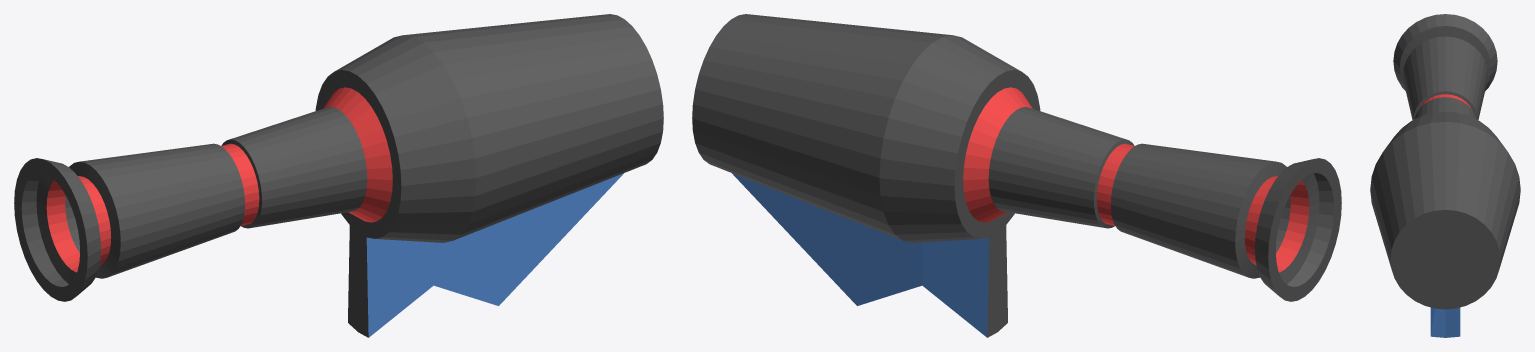
The model's file is Gun.fbx.
3 renders of one model, left to right at view 1: azimuth 30°, elevation 25°; view 2: azimuth 150°, elevation 25°; view 3: azimuth 270°, elevation 25°, orthographic. The views are drawn at different scales.
Parts seen in each view (by area): view 1: Cylinder; view 2: Cylinder; view 3: Cylinder.
Boxes of the visible parts, <box> form: Cylinder: <box>14,14,663,337</box>; Cylinder: <box>692,14,1341,337</box>; Cylinder: <box>1370,14,1520,337</box>.
Size of the model in its own units: 217 by 98.89 by 69.65.
